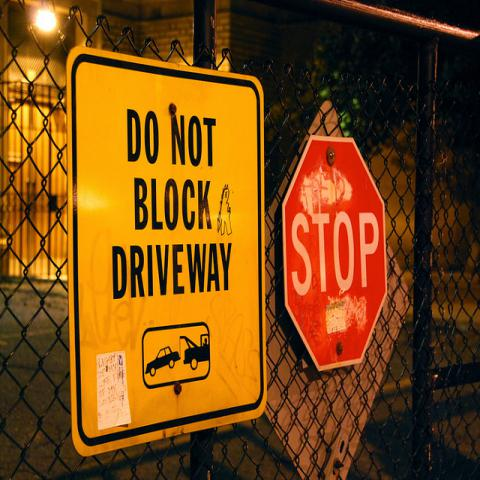car: (145, 346, 181, 376)
